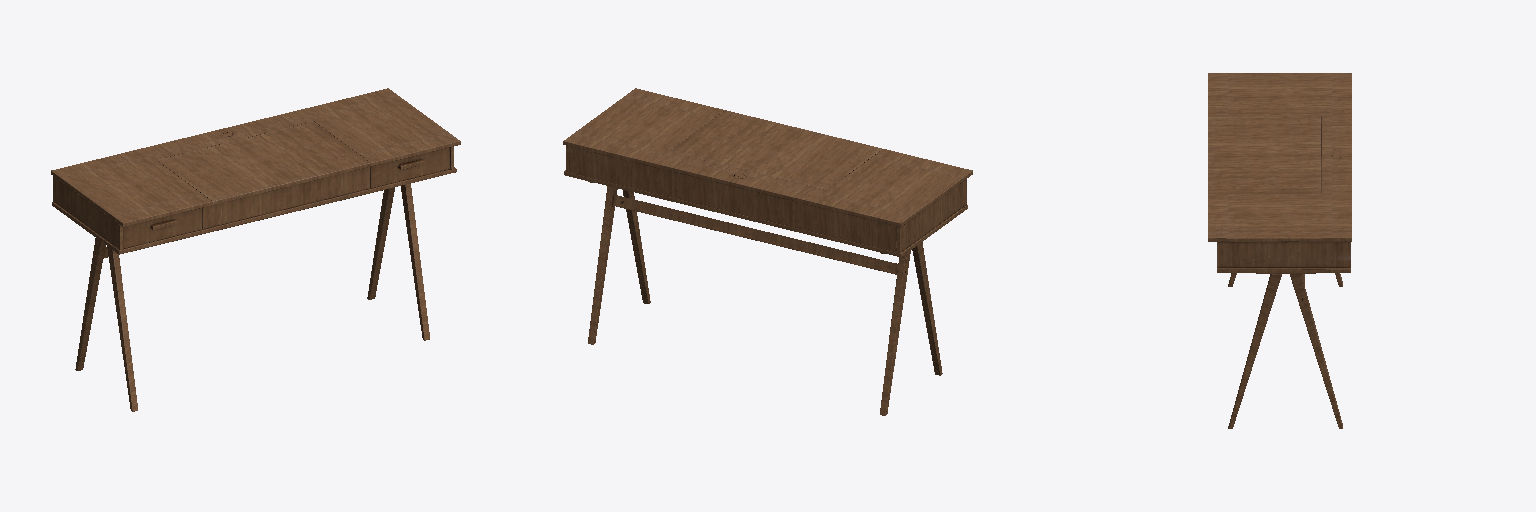
The picture shows the model from 3 angles: view 1: azimuth 30°, elevation 25°; view 2: azimuth 150°, elevation 25°; view 3: azimuth 270°, elevation 25°; orthographic projection.
Visible parts, largest first — view 1: solid; view 2: solid; view 3: solid.
Boxes of the visible parts, <box> form: solid: <box>51,88,460,411</box>; solid: <box>563,88,972,415</box>; solid: <box>1208,73,1351,428</box>.
Bounding box in the file's own units: 1.35 × 0.7686 × 0.4992.
Materials: 1 (1 with a texture image).